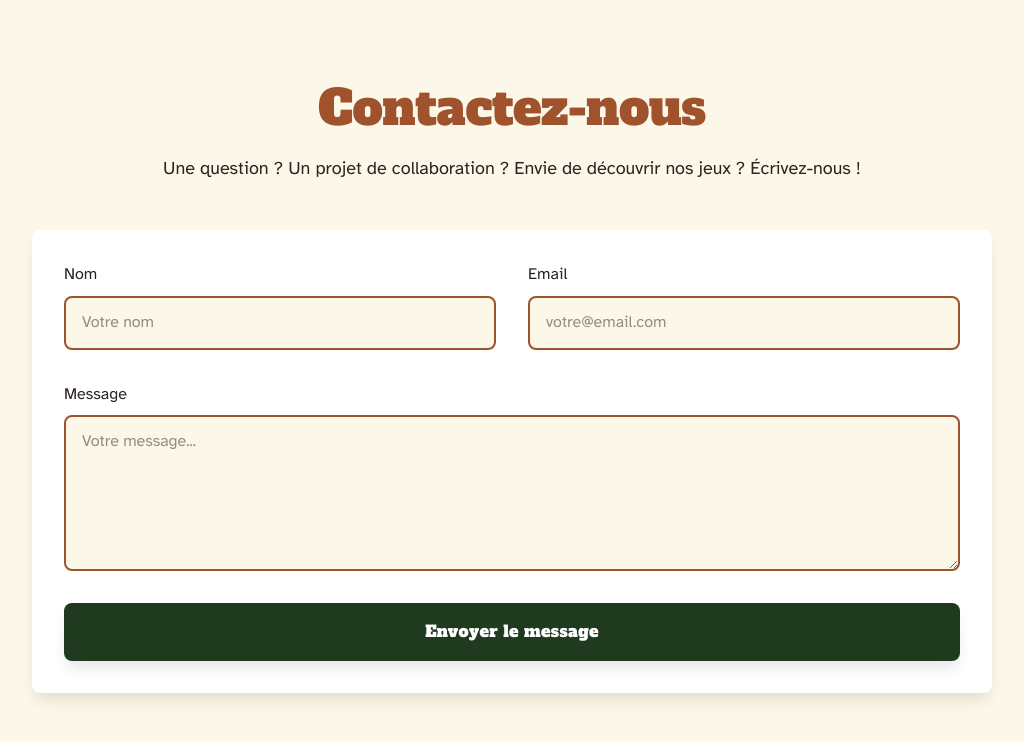
Test case: Formulaire de contact › soumission vide : les trois erreurs requises s'affichent en FR
Click the button "Envoyer le message". click: (512, 632)
box: [64,603,960,661]
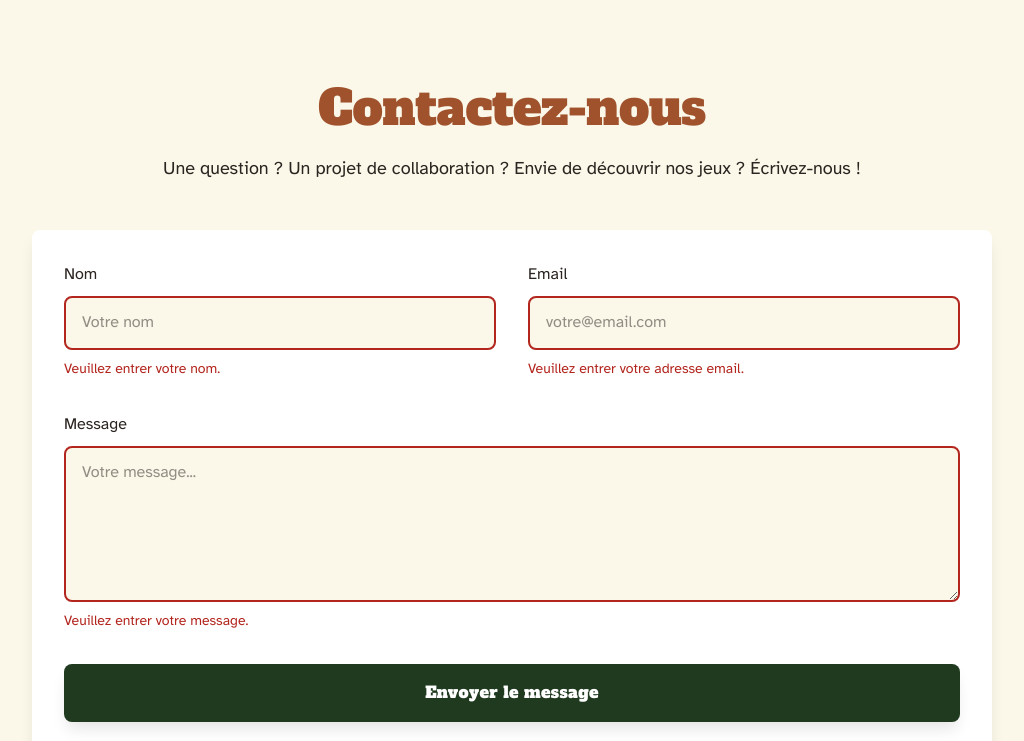
Expected: the text "Veuillez entrer votre nom." is shown, [64,360,220,377]
Expected: the text "Veuillez entrer votre adresse email." is shown, [528,360,744,377]
Expected: the text "Veuillez entrer votre message." is shown, [64,612,248,628]
